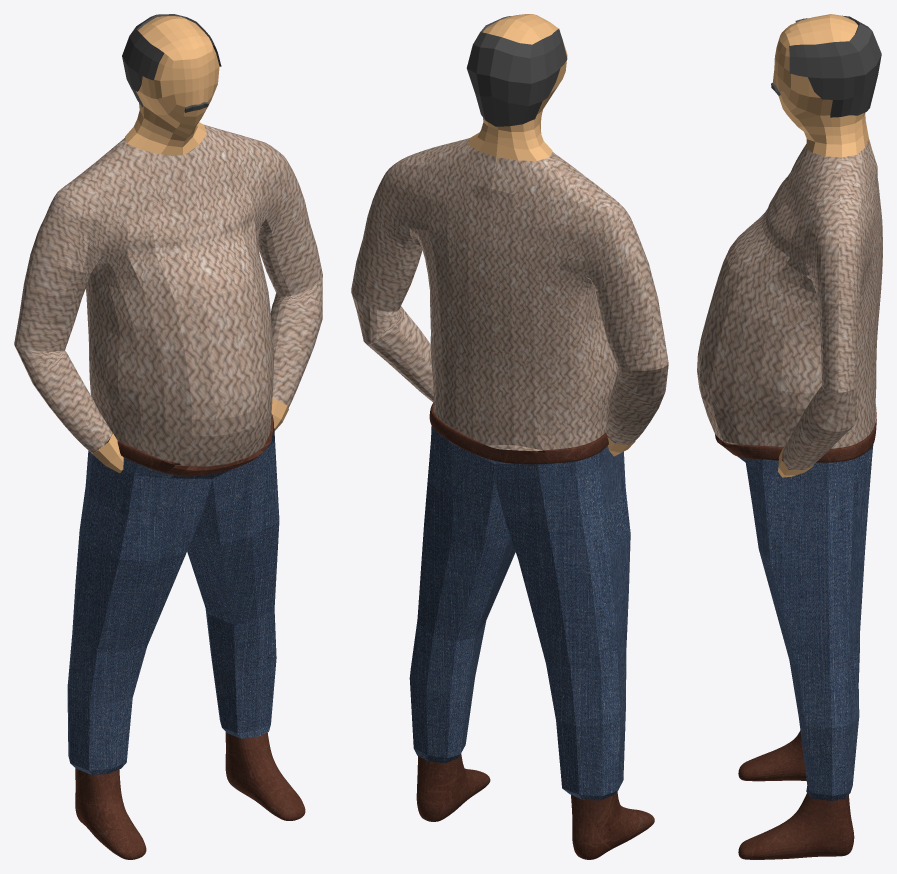
The model's file is Miguel.fbx.
3 renders of one model, left to right at view 1: azimuth 30°, elevation 25°; view 2: azimuth 150°, elevation 25°; view 3: azimuth 270°, elevation 25°, orthographic. The views are drawn at different scales.
Visible parts, largest first — view 1: Miguel; view 2: Miguel; view 3: Miguel.
Part boxes in pixels (bbox=[...]): Miguel: bbox=[14, 14, 322, 859]; Miguel: bbox=[351, 14, 668, 859]; Miguel: bbox=[697, 14, 882, 859].
Bounding box in the file's own units: 63.38 × 156 × 32.93.
5 materials, 3 textured.
